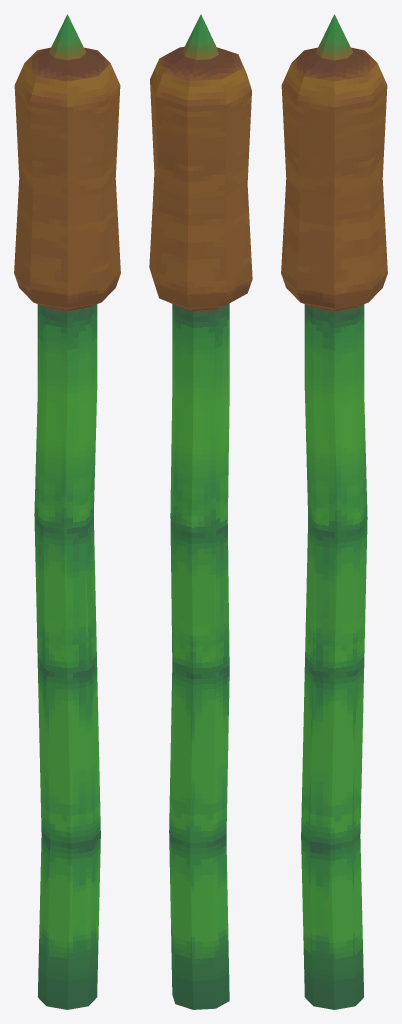
The model's file is REED_MAIN.glb.
3 renders of one model, left to right at view 1: azimuth 90°, elevation 25°; view 2: azimuth 210°, elevation 25°; view 3: azimuth 270°, elevation 25°, orthographic.
Parts seen in each view (by area): view 1: Cylinder; view 2: Cylinder; view 3: Cylinder.
Boxes of the visible parts, left/top/right/bottom form: Cylinder: left=14, top=14, right=120, bottom=1009; Cylinder: left=149, top=14, right=252, bottom=1009; Cylinder: left=281, top=14, right=387, bottom=1009.
Bounding box in the file's own units: 1.23 × 12.49 × 1.23.
Materials: 1 (1 with a texture image).
